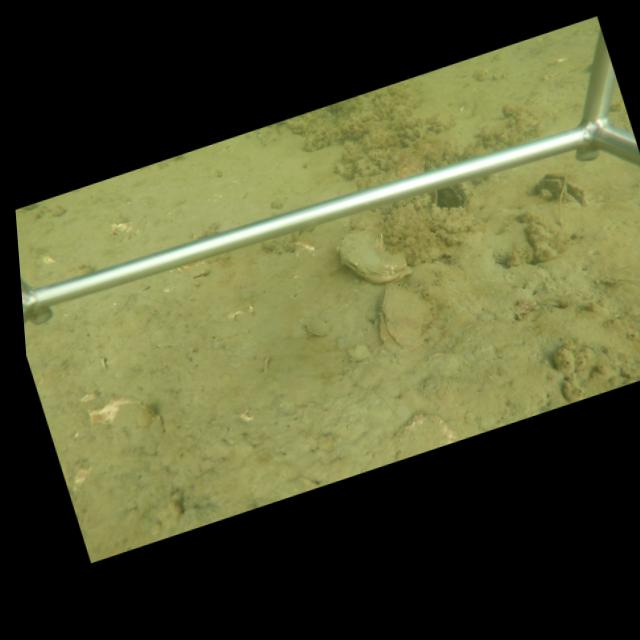Oyster-Closed: (333, 227, 414, 289), (376, 283, 436, 359), (437, 182, 476, 211)
Oyster-Open: (528, 170, 591, 207)
